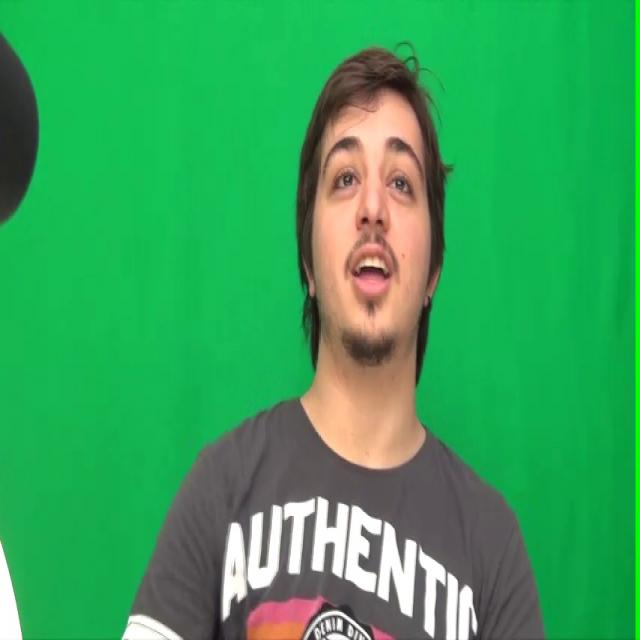Boredom: (310, 84, 427, 347)
